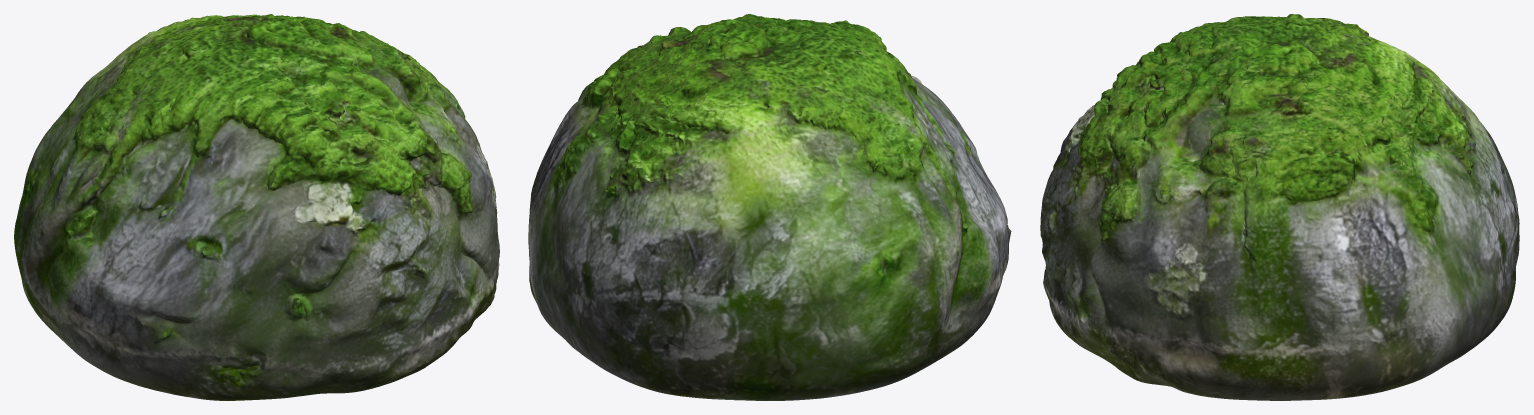
File: wet-rock.glb
3 views of the same model, side by side, from view 1: azimuth 30°, elevation 25°; view 2: azimuth 150°, elevation 25°; view 3: azimuth 270°, elevation 25° (orthographic).
Parts seen in each view (by area): view 1: geometry_0; view 2: geometry_0; view 3: geometry_0.
Part boxes in pixels (x1,y1,x2,y2): geometry_0: (14,14,499,400); geometry_0: (528,14,1011,400); geometry_0: (1040,14,1519,400).
Bounding box in the file's own units: 52350 × 34832 × 52427.
Materials: 1 (1 with a texture image).
